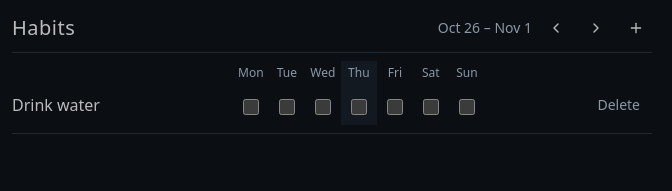
Scenario: adding a habit › opens a focused empty row at the end of the list when + is pressed, and disables +
Expected: the column heading "Drink water" is shown, [12,85,233,125]
Click the button named "Add habit": (636, 28) [620,12,652,44]
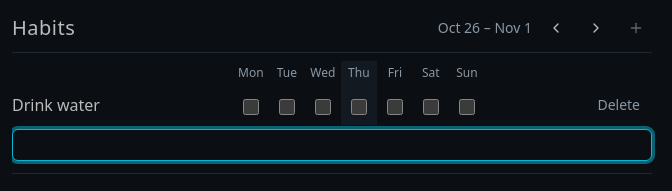
Result: the field named "New habit" is empty at [12,129,652,161]
Result: the button named "Add habit" is disabled at [620,12,652,44]
